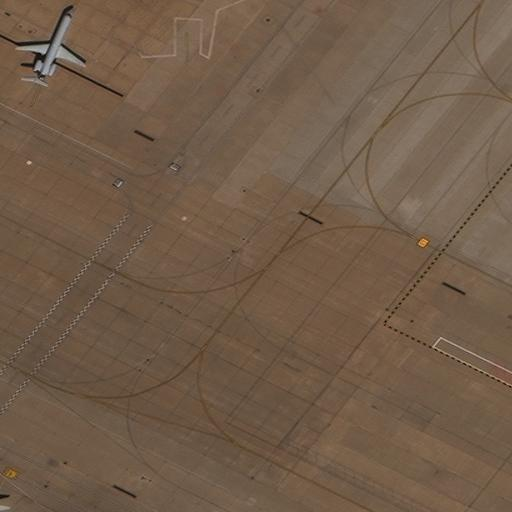Medium Civil Transport: (16, 5, 86, 85)
